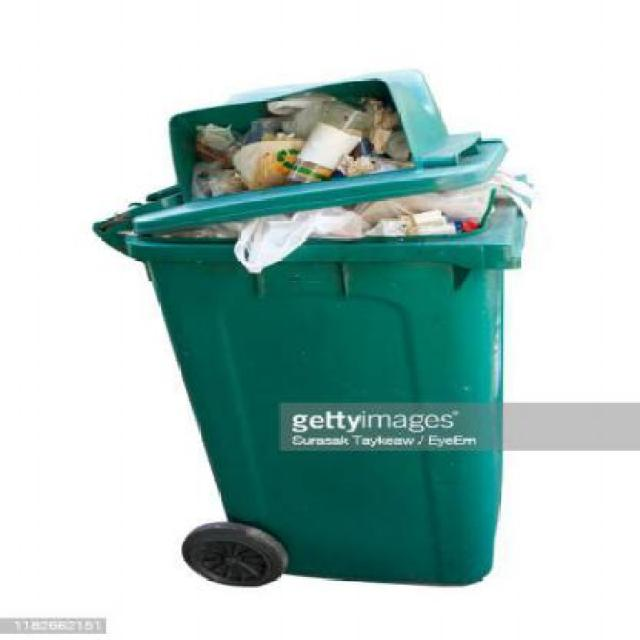garbage container: (87, 66, 551, 600)
